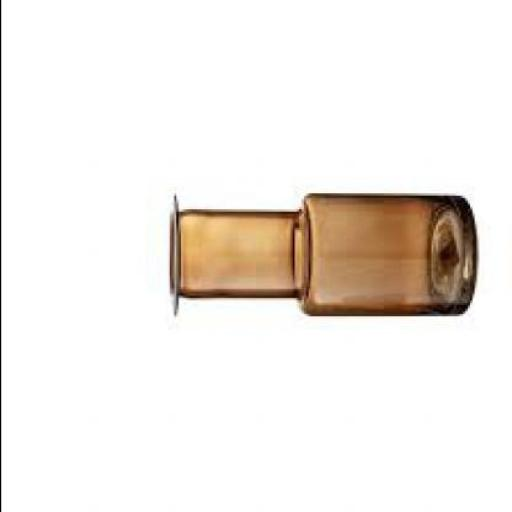glass: (164, 193, 471, 319)
